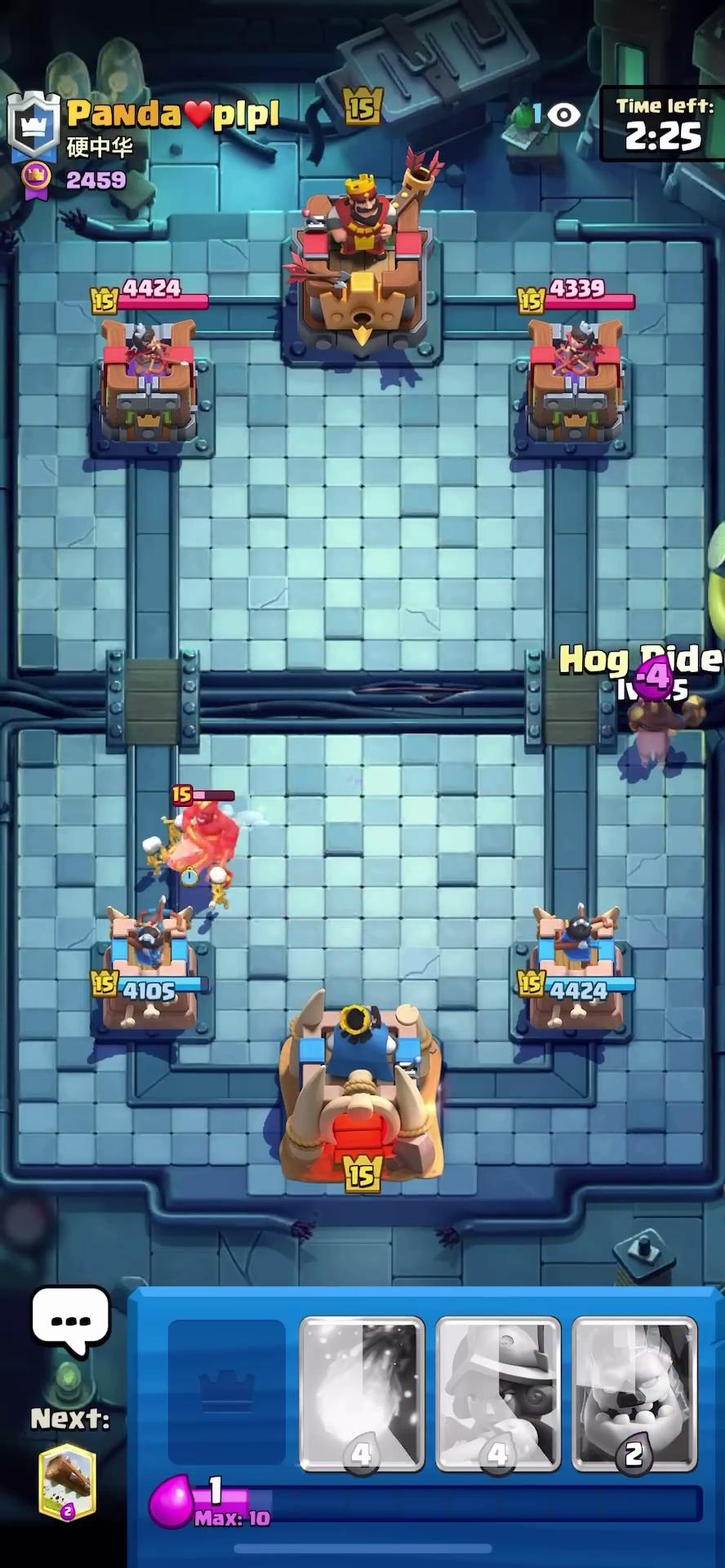skeletons: (194, 866, 235, 913), (137, 833, 171, 876)
